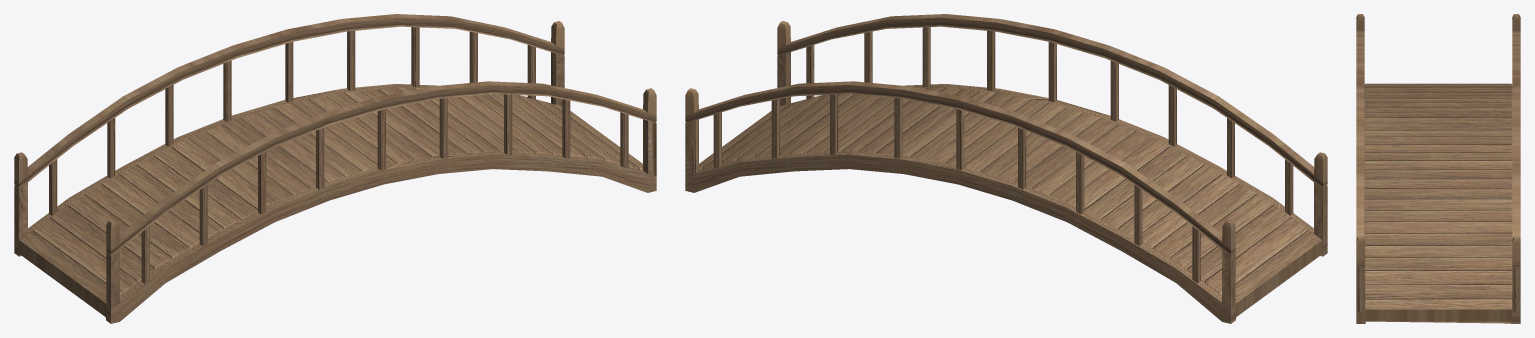
The model's file is Bridge.fbx.
The picture shows the model from 3 angles, left to right: view 1: azimuth 30°, elevation 25°; view 2: azimuth 150°, elevation 25°; view 3: azimuth 270°, elevation 25°; orthographic projection. The views are drawn at different scales.
Parts seen in each view (by area): view 1: Bridge; view 2: Bridge; view 3: Bridge.
Part boxes in pixels (<box>): Bridge: <box>14,14,656,323</box>; Bridge: <box>685,14,1327,323</box>; Bridge: <box>1356,14,1520,323</box>.
Size of the model in its own units: 1004 by 276 by 308.
